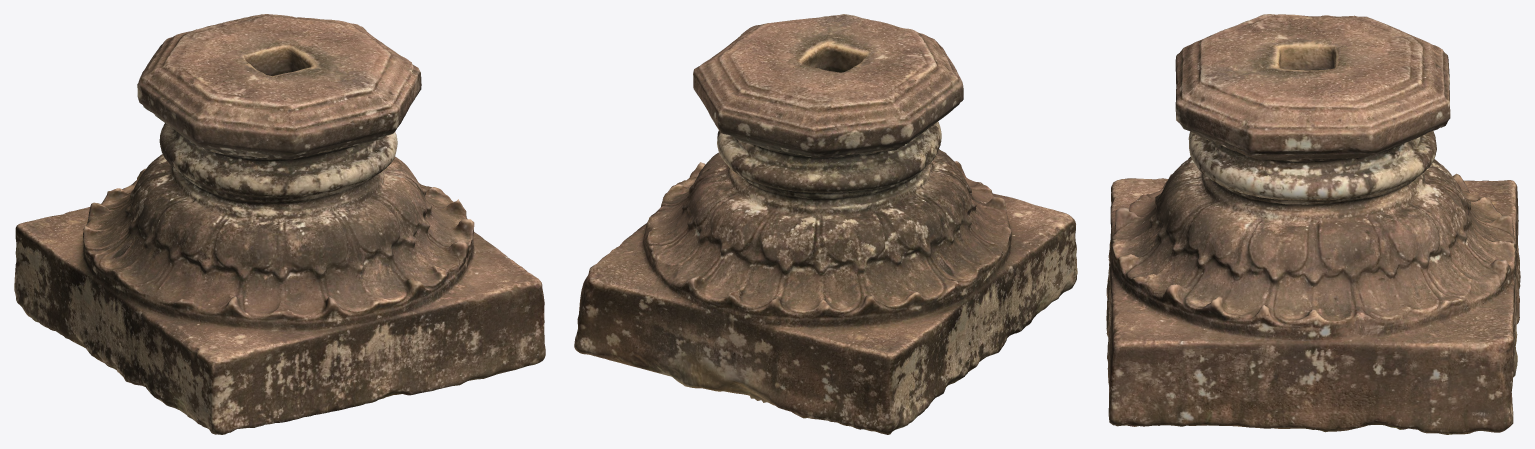
File: 10_MysonSanctuaryB_Detru_final.glb
3 renders of one model, left to right at view 1: azimuth 30°, elevation 25°; view 2: azimuth 150°, elevation 25°; view 3: azimuth 270°, elevation 25°, orthographic. The views are drawn at different scales.
Size of the model in its own units: 0.9639 by 0.7806 by 0.9916.
1 material, 1 textured.
